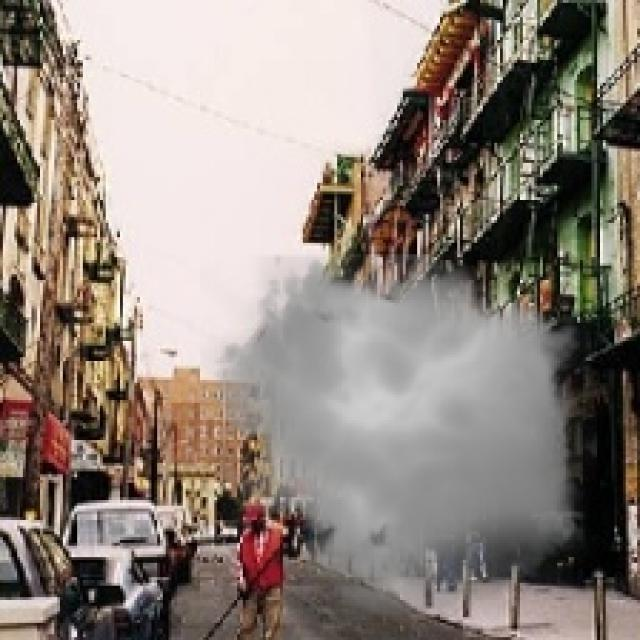Smoke: (200, 237, 597, 632)
